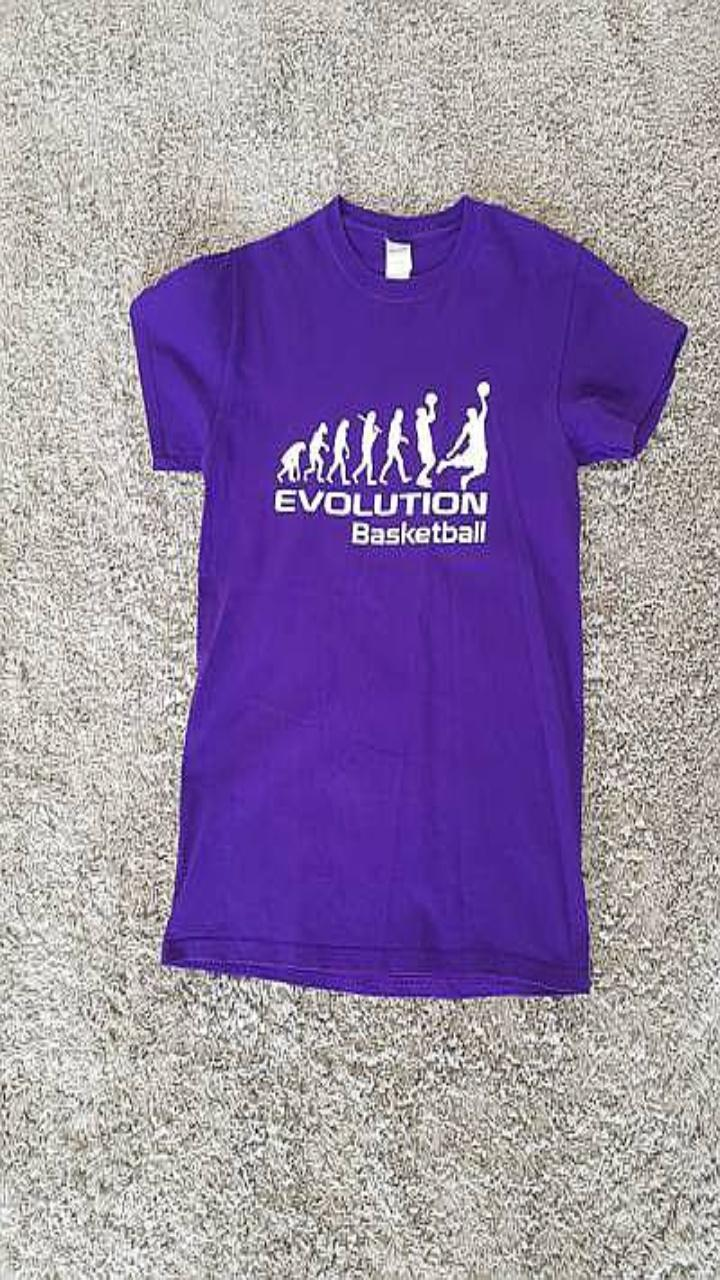T-Shirt: (130, 195, 686, 997)
